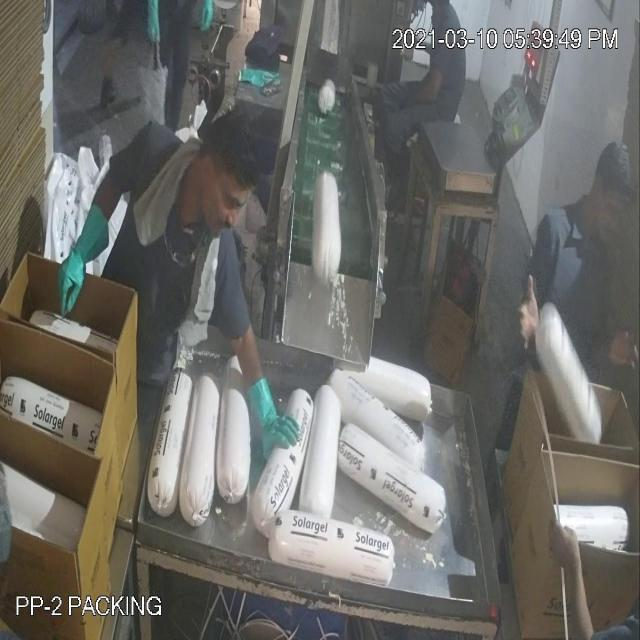No_Gloves: (60, 106, 522, 416)
